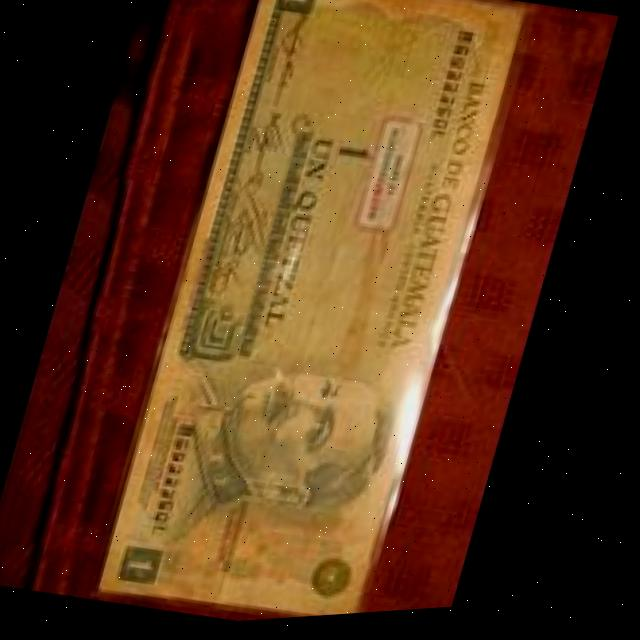banknote: (94, 0, 545, 633)
